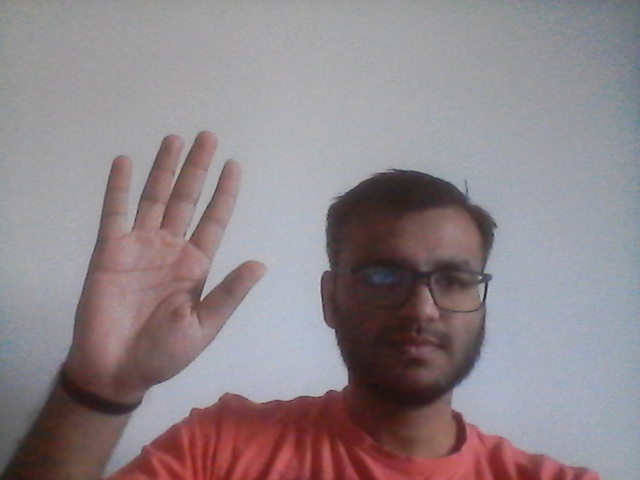Hello: (69, 127, 267, 386)
